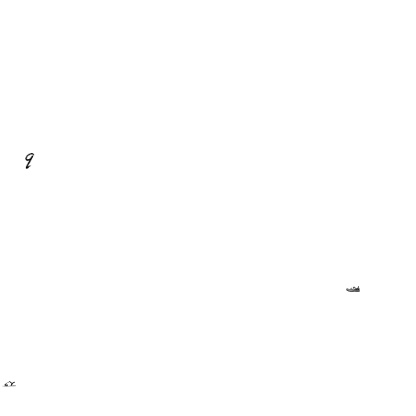9: (18, 149, 40, 171)
Sandal: (2, 377, 16, 391), (346, 282, 360, 296)
